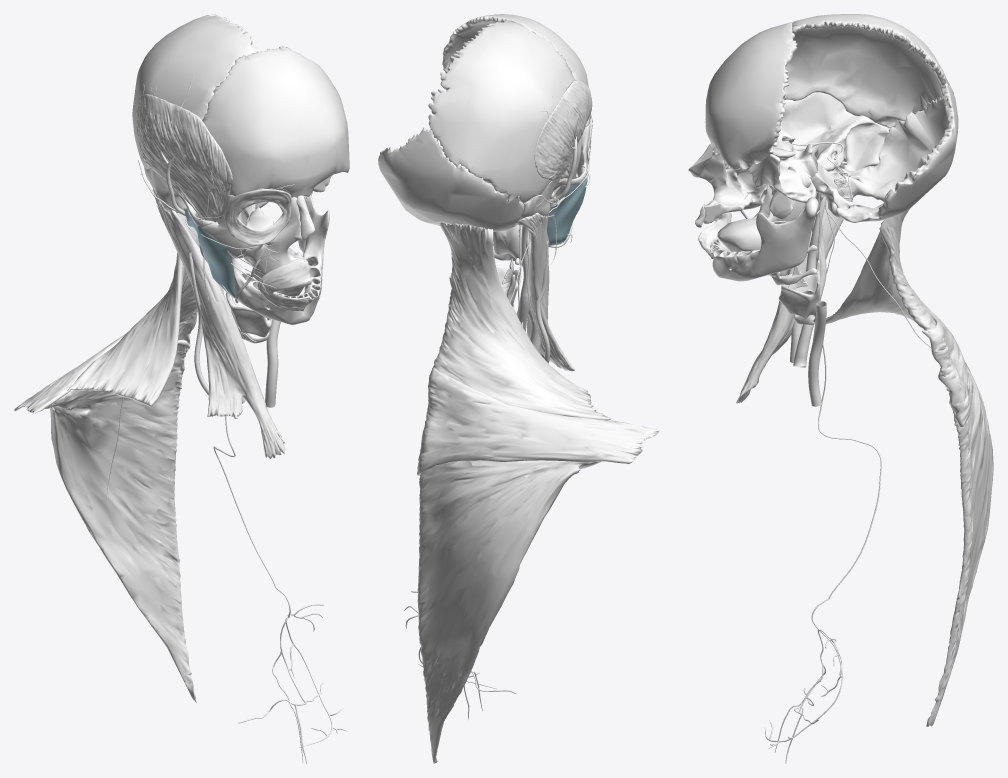
File: head-neck.glb
3 views of the same model, side by side, from view 1: azimuth 30°, elevation 25°; view 2: azimuth 150°, elevation 25°; view 3: azimuth 270°, elevation 25° (orthographic).
Visible parts, largest first — view 1: Descending_part_of_trapezius_muscle_r, Frontal_bone, Sternocleidomastoid_muscle_r, Parietal_bone_r, Ascending_part_of_trapezius_muscle_r, Temporalis_muscle_r, Mandible, Maxilla_r, Orbital_part_of_orbicularis_oculi_r, Transverse_part_of_trapezius_muscle_r, Vagus_nerve_X_r, Orbicularis_oris_muscle_r (+6 smaller); view 2: Descending_part_of_trapezius_muscle_r, Parietal_bone_r, Ascending_part_of_trapezius_muscle_r, Transverse_part_of_trapezius_muscle_r, Occipital_bone, Temporalis_muscle_r, Sternocleidomastoid_muscle_r, Frontal_bone, Masseteric_fascia_r, Temporal_bone_r, Tongue, External_jugular_vein_r (+3 smaller); view 3: Parietal_bone_r, Occipital_bone, Frontal_bone, Descending_part_of_trapezius_muscle_r, Temporal_bone_r, Mandible, Ascending_part_of_trapezius_muscle_r, Sphenoid_bone, Maxilla_r, Transverse_part_of_trapezius_muscle_r, Sternocleidomastoid_muscle_r, Vagus_nerve_X_r (+6 smaller).
Part boxes in pixels (<box>): Descending_part_of_trapezius_muscle_r: <box>44,339,196,702</box>; Frontal_bone: <box>202,46,349,198</box>; Sternocleidomastoid_muscle_r: <box>152,188,285,458</box>; Parietal_bone_r: <box>132,14,260,169</box>; Ascending_part_of_trapezius_muscle_r: <box>67,213,199,406</box>; Temporalis_muscle_r: <box>136,94,234,258</box>; Mandible: <box>195,191,329,324</box>; Maxilla_r: <box>234,197,306,274</box>; Orbital_part_of_orbicularis_oculi_r: <box>224,189,291,245</box>; Transverse_part_of_trapezius_muscle_r: <box>14,305,197,413</box>; Vagus_nerve_X_r: <box>213,258,347,763</box>; Orbicularis_oris_muscle_r: <box>257,259,311,311</box>; Descending_part_of_trapezius_muscle_r: <box>417,460,600,763</box>; Parietal_bone_r: <box>428,20,574,202</box>; Ascending_part_of_trapezius_muscle_r: <box>432,222,610,420</box>; Transverse_part_of_trapezius_muscle_r: <box>417,366,659,475</box>; Occipital_bone: <box>378,127,524,231</box>; Temporalis_muscle_r: <box>534,80,592,196</box>; Sternocleidomastoid_muscle_r: <box>516,212,574,371</box>; Frontal_bone: <box>442,14,590,126</box>; Masseteric_fascia_r: <box>547,178,587,244</box>; Temporal_bone_r: <box>520,167,587,219</box>; Tongue: <box>493,224,530,260</box>; External_jugular_vein_r: <box>535,240,550,362</box>; Parietal_bone_r: <box>784,14,953,127</box>; Occipital_bone: <box>811,82,958,222</box>; Frontal_bone: <box>705,22,797,170</box>; Descending_part_of_trapezius_muscle_r: <box>926,362,993,726</box>; Temporal_bone_r: <box>780,92,889,171</box>; Mandible: <box>710,184,818,281</box>; Ascending_part_of_trapezius_muscle_r: <box>825,208,935,335</box>; Sphenoid_bone: <box>747,125,818,219</box>; Maxilla_r: <box>698,149,767,223</box>; Transverse_part_of_trapezius_muscle_r: <box>920,300,969,426</box>; Sternocleidomastoid_muscle_r: <box>736,168,853,403</box>; Vagus_nerve_X_r: <box>764,170,881,763</box>.
Size of the model in its own units: 0.2374 by 0.6005 by 0.2304.
